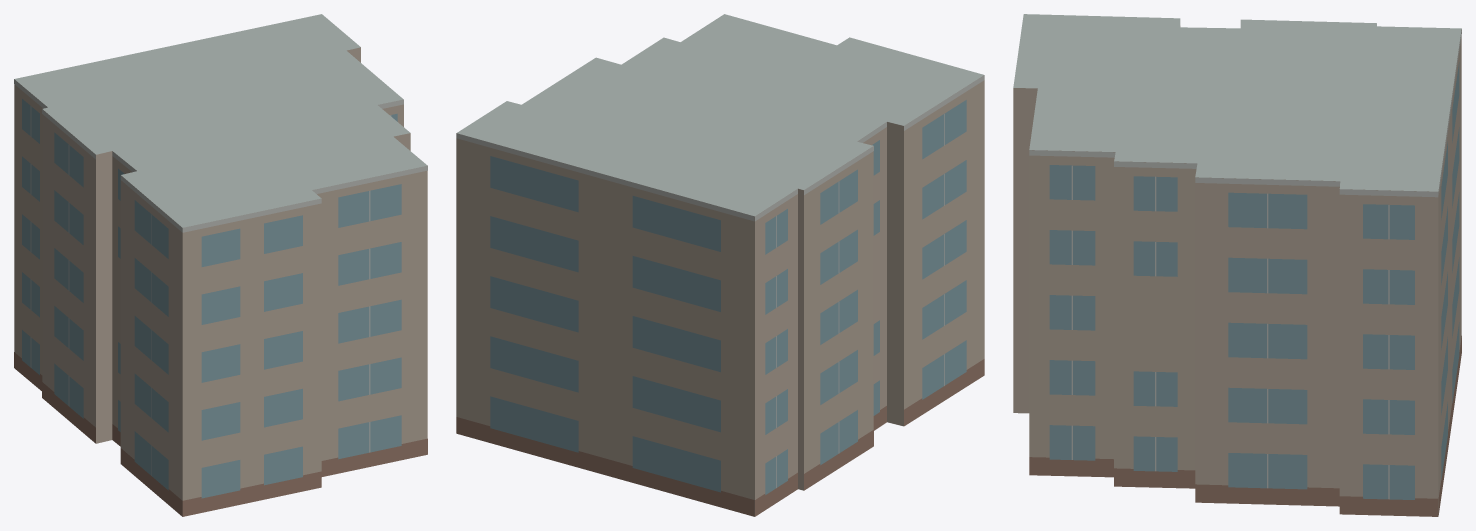
The model's file is survey-upis-33017528.glb.
The picture shows the model from 3 angles, left to right: view 1: azimuth 30°, elevation 25°; view 2: azimuth 150°, elevation 25°; view 3: azimuth 270°, elevation 25°; orthographic projection. The views are drawn at different scales.
Parts seen in each view (by area): view 1: survey-upis-33017528.tmp; view 2: survey-upis-33017528.tmp; view 3: survey-upis-33017528.tmp.
Part boxes in pixels (x1,y1,x2,y2): survey-upis-33017528.tmp: (14, 14, 427, 516); survey-upis-33017528.tmp: (456, 14, 984, 516); survey-upis-33017528.tmp: (1013, 14, 1461, 516).
Bounding box in the file's own units: 16.77 × 14.3 × 17.88.
